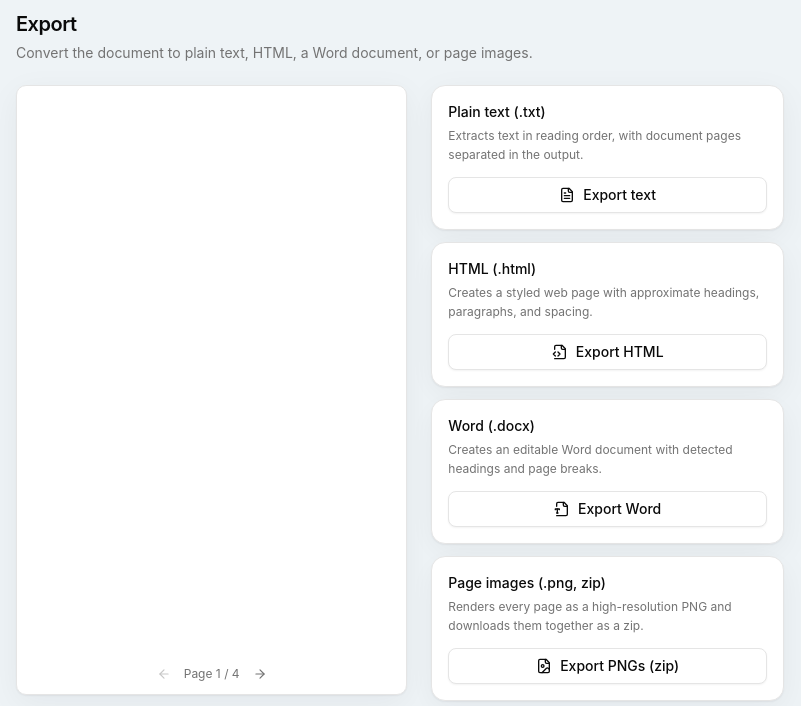
Test case: Export workspace › shows a navigable document preview beside all export formats
Check: the button "Export text" is shown, box [448,177,767,213]
Check: the button "Export HTML" is shown, box [448,334,767,370]
Click the button named "Next page": (260, 674) [248,662,272,686]
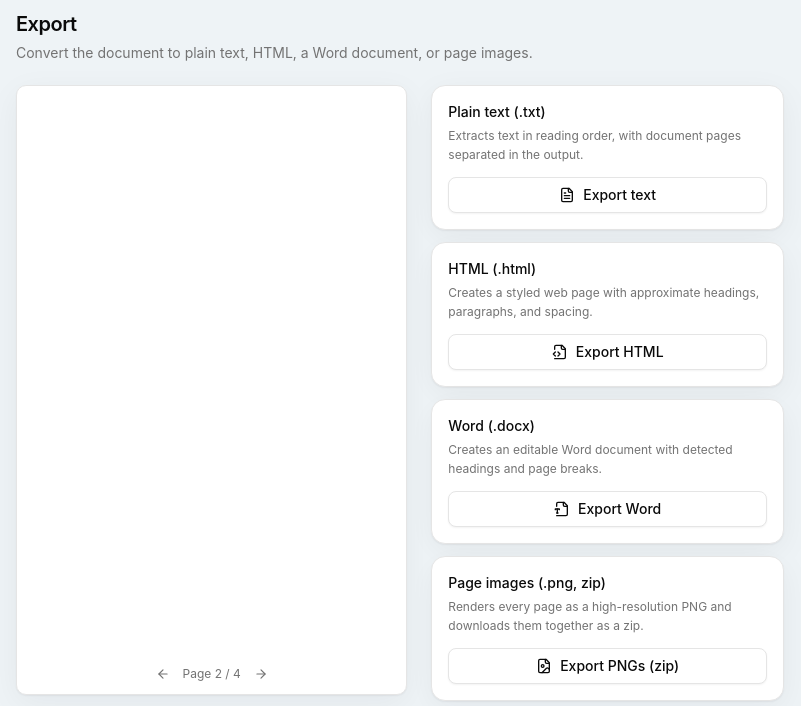
Check: the text "Page 2 / 4" is shown, box [150,662,273,686]
